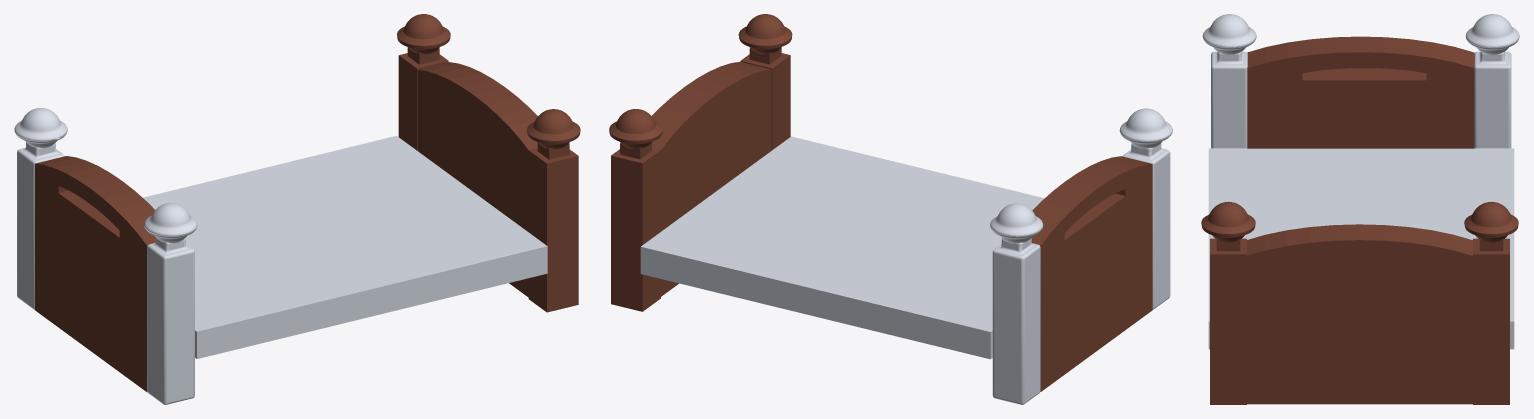
File: Bed3.fbx
The picture shows the model from 3 angles, left to right: view 1: azimuth 30°, elevation 25°; view 2: azimuth 150°, elevation 25°; view 3: azimuth 270°, elevation 25°; orthographic projection.
Parts seen in each view (by area): view 1: Cube.012; view 2: Cube.012; view 3: Cube.012.
Part boxes in pixels (bbox=[...]): Cube.012: bbox=[14, 14, 580, 404]; Cube.012: bbox=[609, 14, 1172, 404]; Cube.012: bbox=[1201, 14, 1519, 404].
Size of the model in its own units: 182 by 78.1 by 116.
